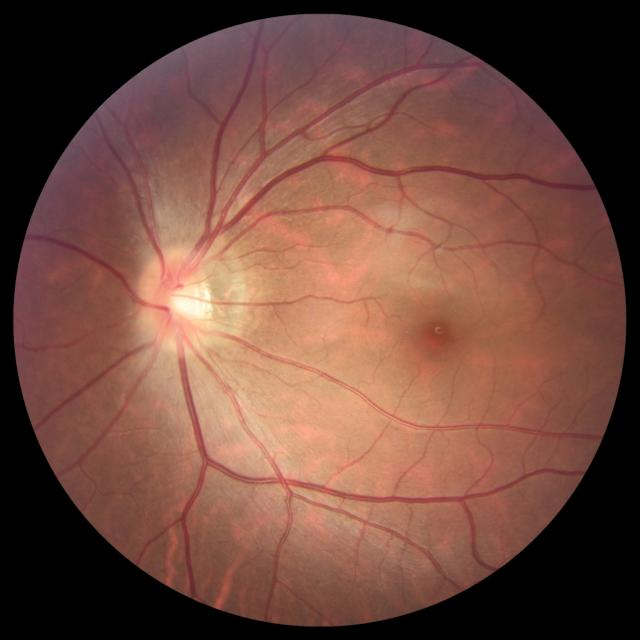OC: (163, 285, 199, 320)
OD: (138, 249, 210, 351)
